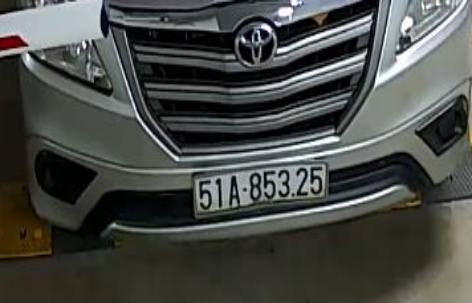plate: (194, 153, 339, 217)
